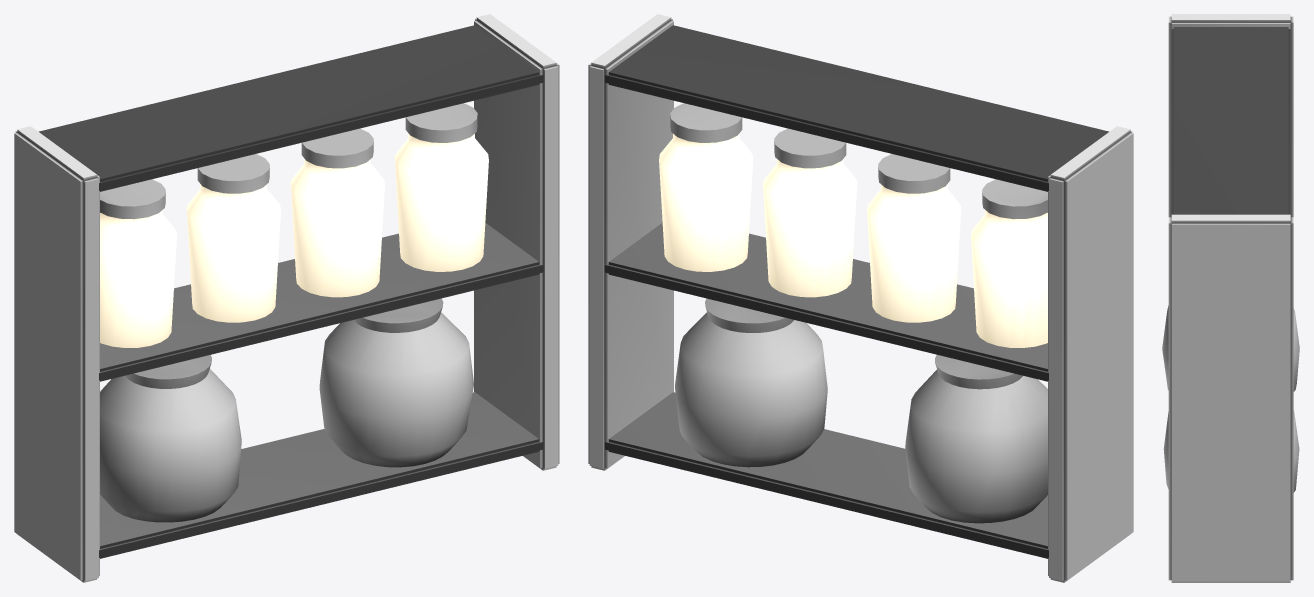
Rendered from HOB_AlmondShelf.fbx.
3 views of the same model, side by side, from view 1: azimuth 30°, elevation 25°; view 2: azimuth 150°, elevation 25°; view 3: azimuth 270°, elevation 25° (orthographic). The views are drawn at different scales.
Parts seen in each view (by area): view 1: HOB_AlmondShelf; view 2: HOB_AlmondShelf; view 3: HOB_AlmondShelf.
Boxes of the visible parts, x1,y1,x2,y2 form: HOB_AlmondShelf: [14, 14, 559, 582]; HOB_AlmondShelf: [588, 14, 1133, 582]; HOB_AlmondShelf: [1162, 14, 1299, 582].
Bounding box in the file's own units: 198 × 160 × 55.09.
